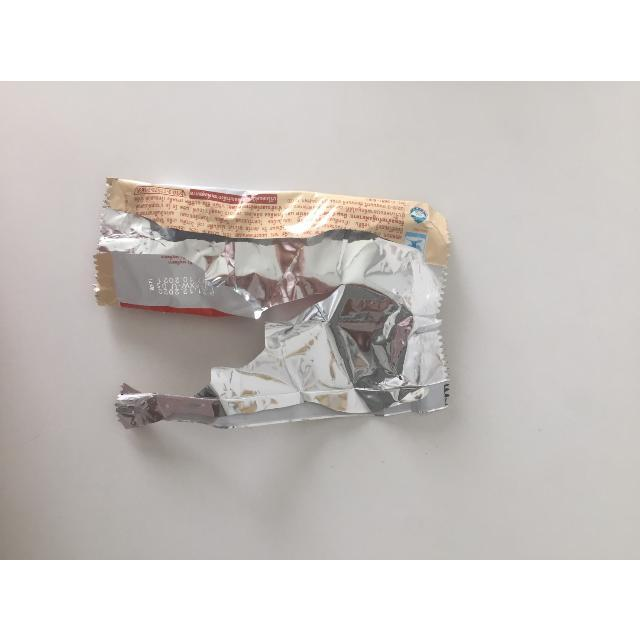Paquete de plastico: (88, 170, 482, 448)
